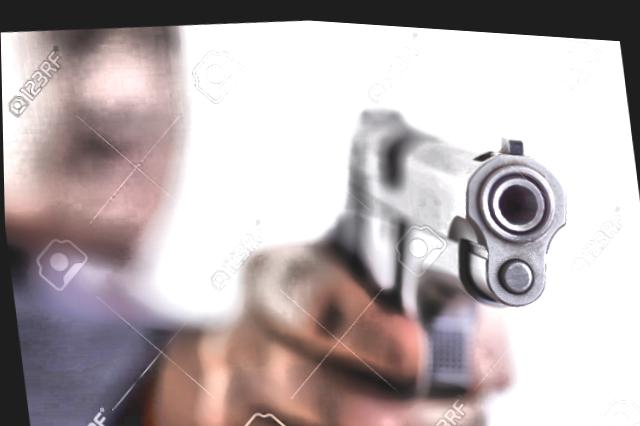pistol: (303, 61, 595, 426)
